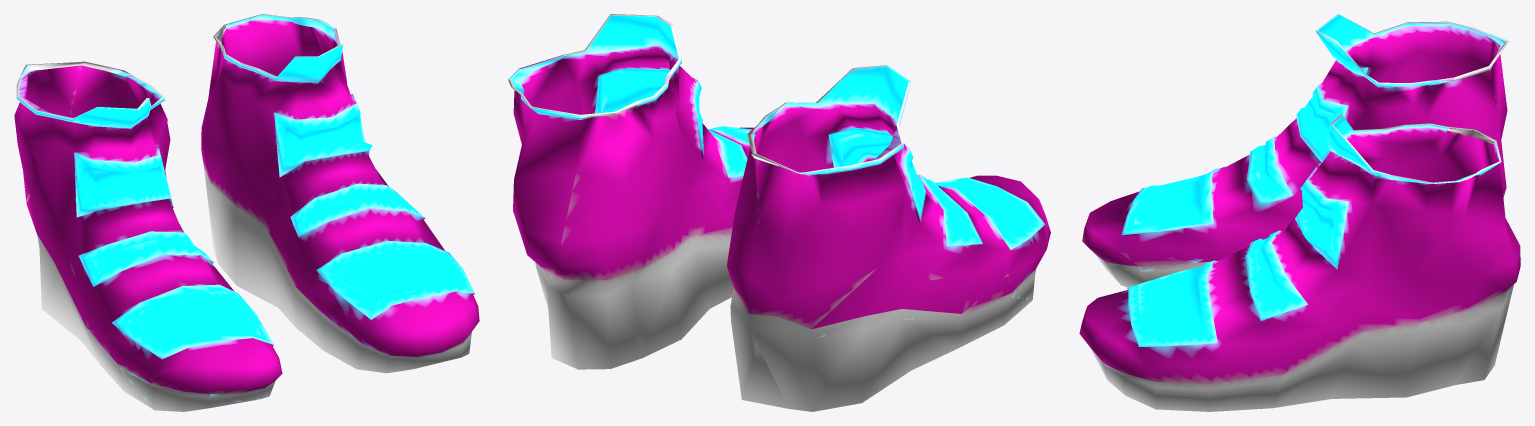
The model's file is Zapatilla_B.glb.
3 views of the same model, side by side, from view 1: azimuth 30°, elevation 25°; view 2: azimuth 150°, elevation 25°; view 3: azimuth 270°, elevation 25° (orthographic). The views are drawn at different scales.
Parts seen in each view (by area): view 1: Mesh.004; view 2: Mesh.004; view 3: Mesh.004.
Boxes of the visible parts, left/top/right/bottom form: Mesh.004: left=14, top=14, right=479, bottom=411; Mesh.004: left=508, top=14, right=1050, bottom=411; Mesh.004: left=1079, top=14, right=1520, bottom=411.
Size of what is drawn, in the model's own units: 0.2971 by 0.2066 by 0.3275.
1 material, 1 textured.
